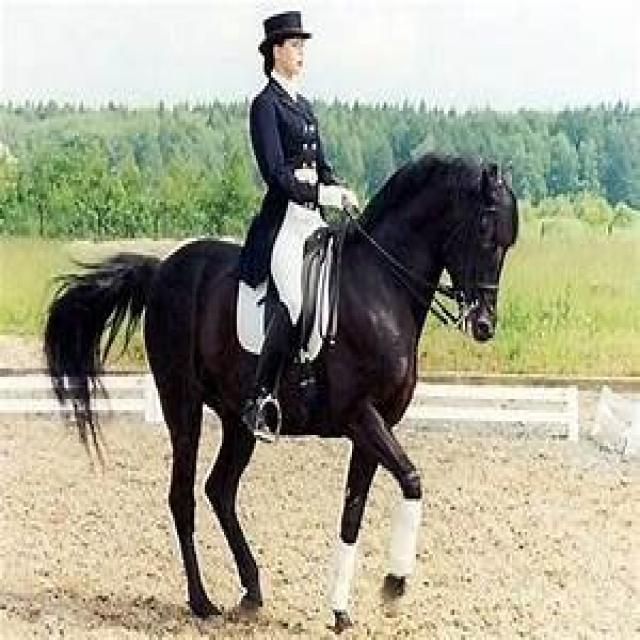horse: (277, 155, 518, 632), (43, 238, 260, 621)
